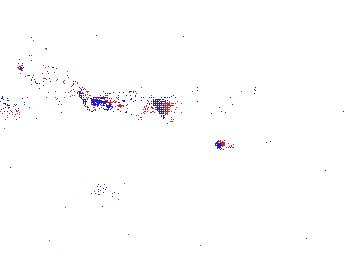X-ray fish: (84, 168, 165, 210), (18, 30, 50, 80)
red belly glassfish: (211, 133, 260, 152), (263, 132, 283, 150)
redtail glassfish: (20, 59, 101, 116), (91, 88, 169, 122), (178, 74, 264, 101), (157, 98, 236, 123)
